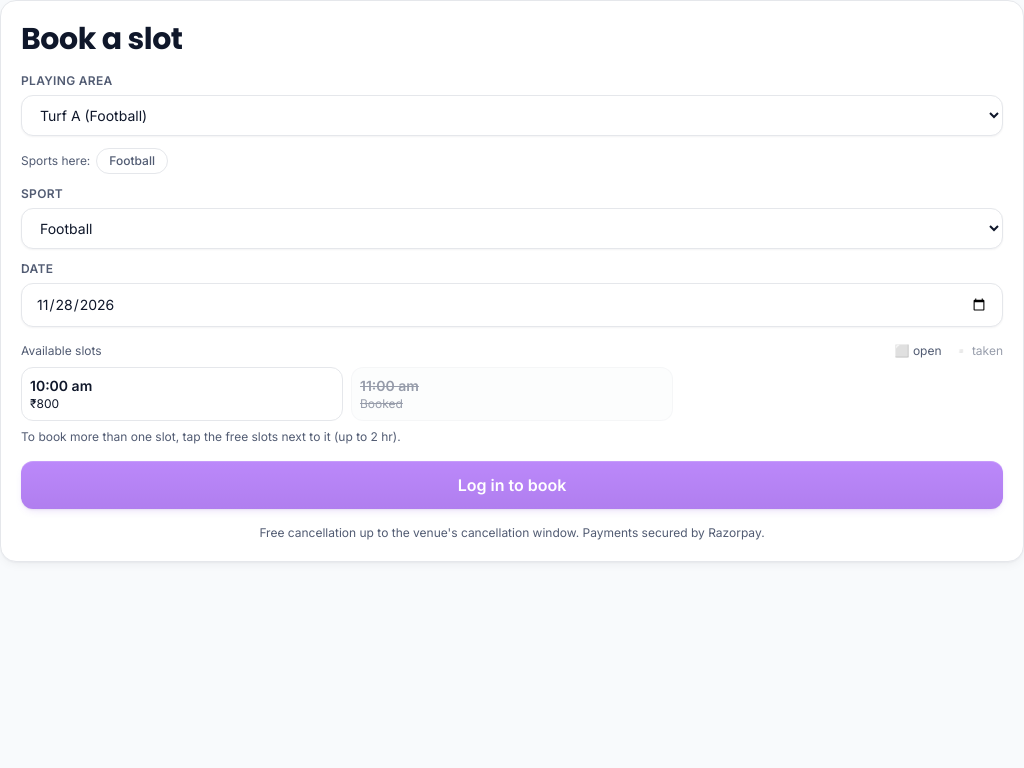
Test: BookingWidget › lists slots, disables taken ones, and prompts anonymous users to log in
The width and height of the screenshot is (1024, 768).
Expected: the option "11:00 am Booked" is disabled, 351,367 -> 673,421
Click the option "10:00 am ₹800" at {"x": 61, "y": 386}, box 21,367 -> 343,421
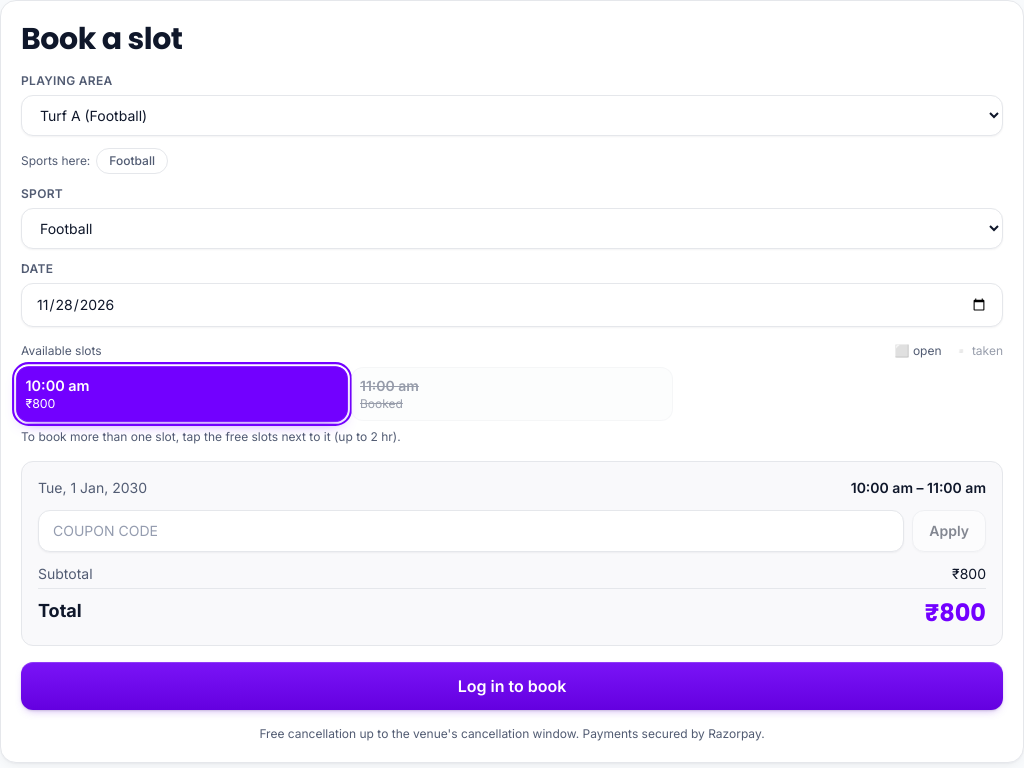
Expected: the text "Total" is shown, 38,597 -> 82,629
Expected: the button "Log in to book" is enabled, 21,662 -> 1003,710
